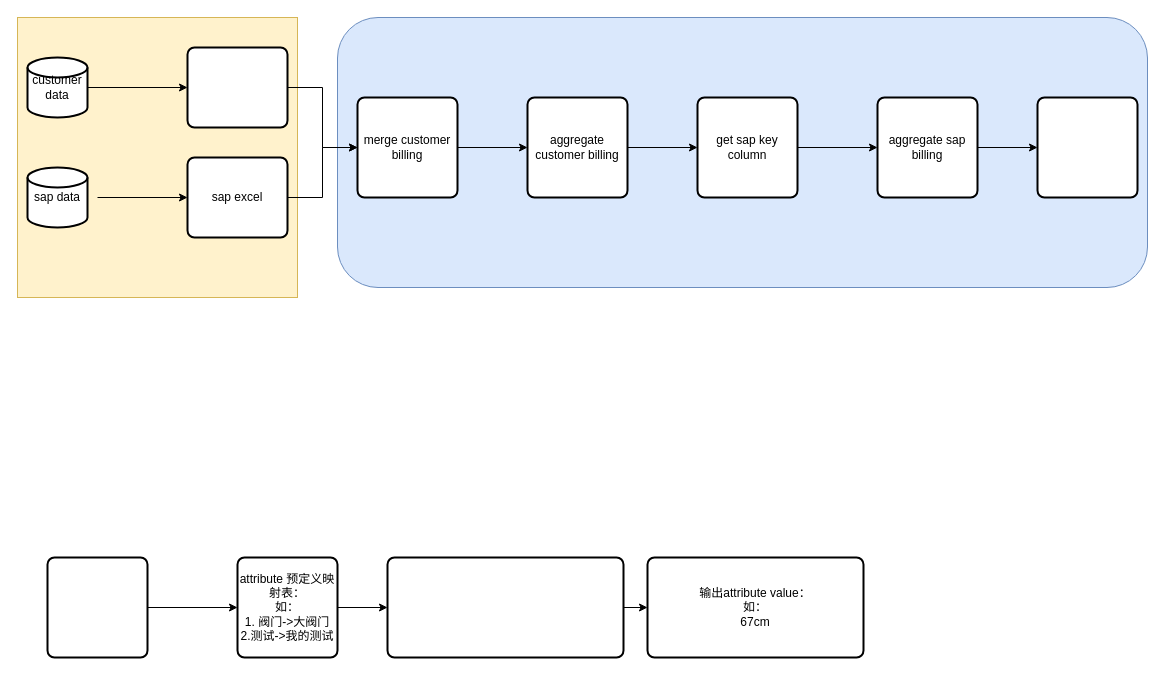
This 1165x676 diagram has some shape labels left out. Each missing label, with the centre of its shape:
"customer excel" goes at [237,87].
"merge customer and sap data & show" goes at [1087,147].
"文档pdf，image： attribute name：attribute value 如： 1. 大阀门：67cm 2.我的测试：100" goes at [505,607].
"获取对应的attribute value： 如获取阀门的值" goes at [97,607].
